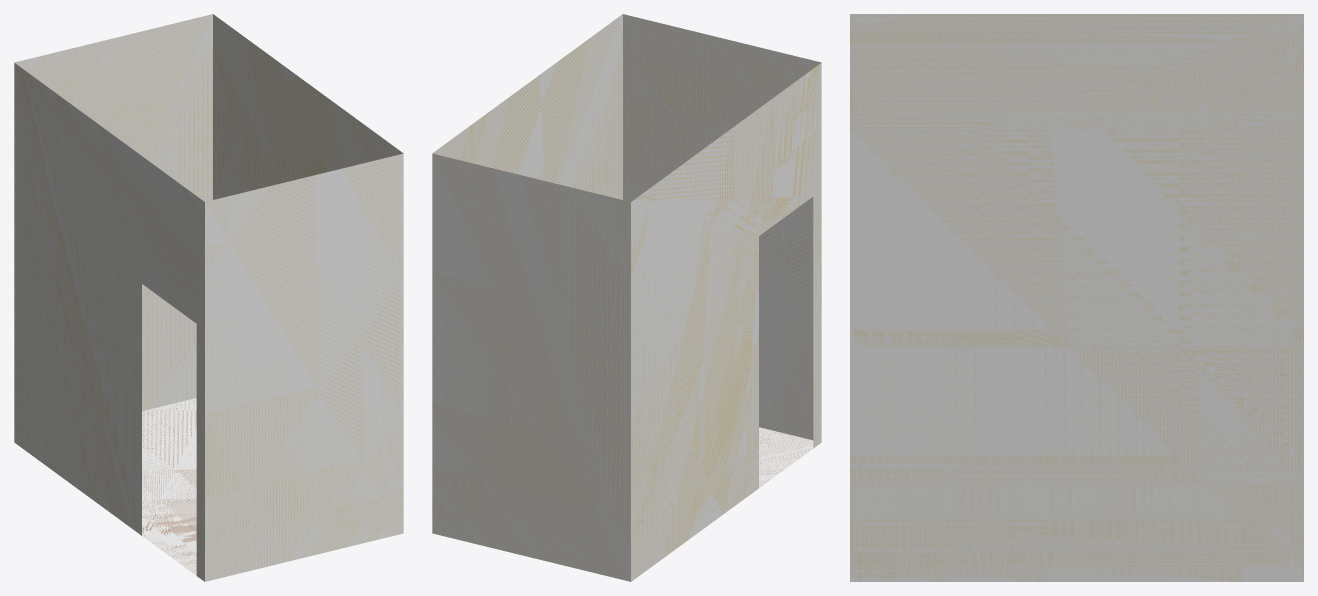
File: CUA001.obj
3 views of the same model, side by side, from view 1: azimuth 30°, elevation 25°; view 2: azimuth 150°, elevation 25°; view 3: azimuth 270°, elevation 25° (orthographic). The views are drawn at different scales.
Parts seen in each view (by area): view 1: Mesh1 CUA001 Model; view 2: Mesh1 CUA001 Model; view 3: Mesh1 CUA001 Model.
Boxes of the visible parts, x1,y1,x2,y2 form: Mesh1 CUA001 Model: (14,14,403,581); Mesh1 CUA001 Model: (432,14,821,581); Mesh1 CUA001 Model: (850,14,1303,581).
Bounding box in the file's own units: 1.64 × 2.99 × 2.72.
Materials: 3 (1 with a texture image).
